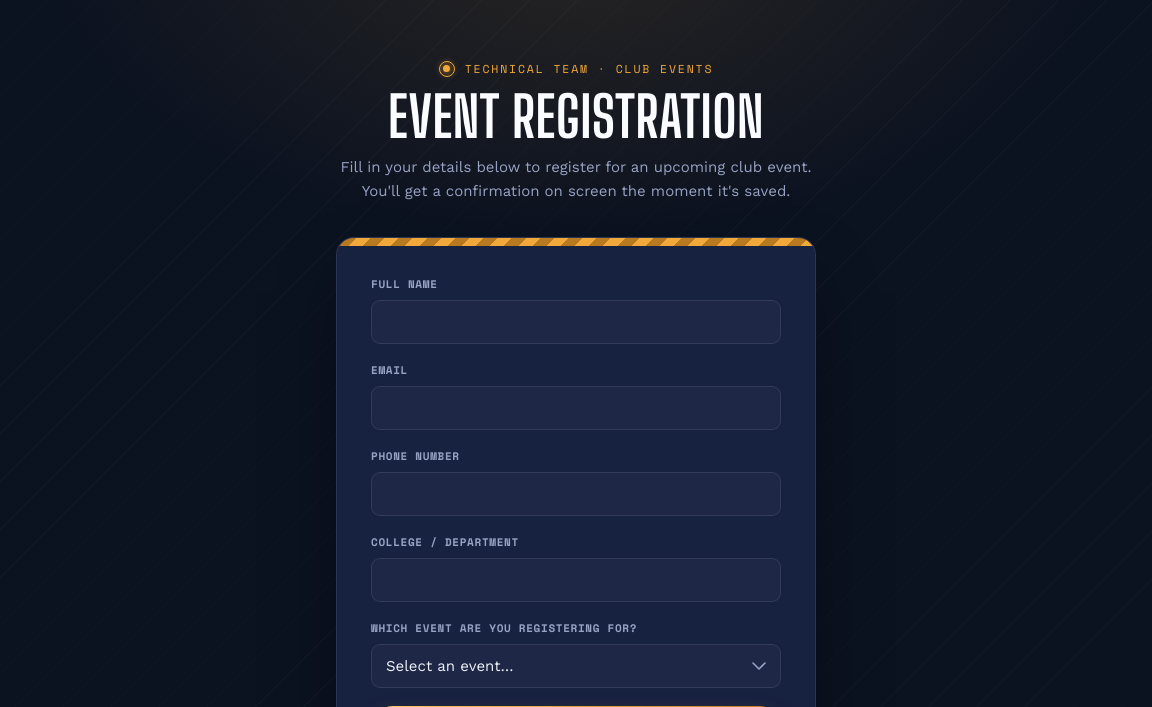
Test: RegistrationForm › rejects an invalid phone number without touching the server
Type "Ada Lovelace" into the field labelled "Full Name" at (576, 322), box [371,300,781,344]
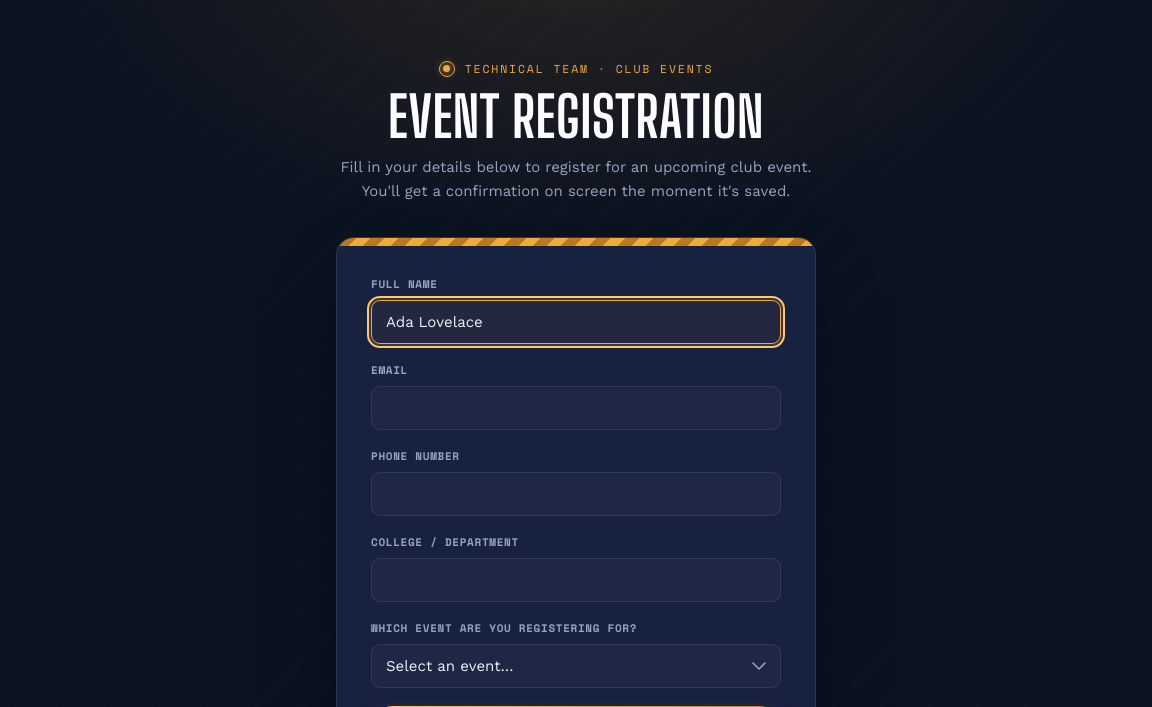
Type "ada@example.com" into the field labelled "Email" at (576, 408), box [371,386,781,430]
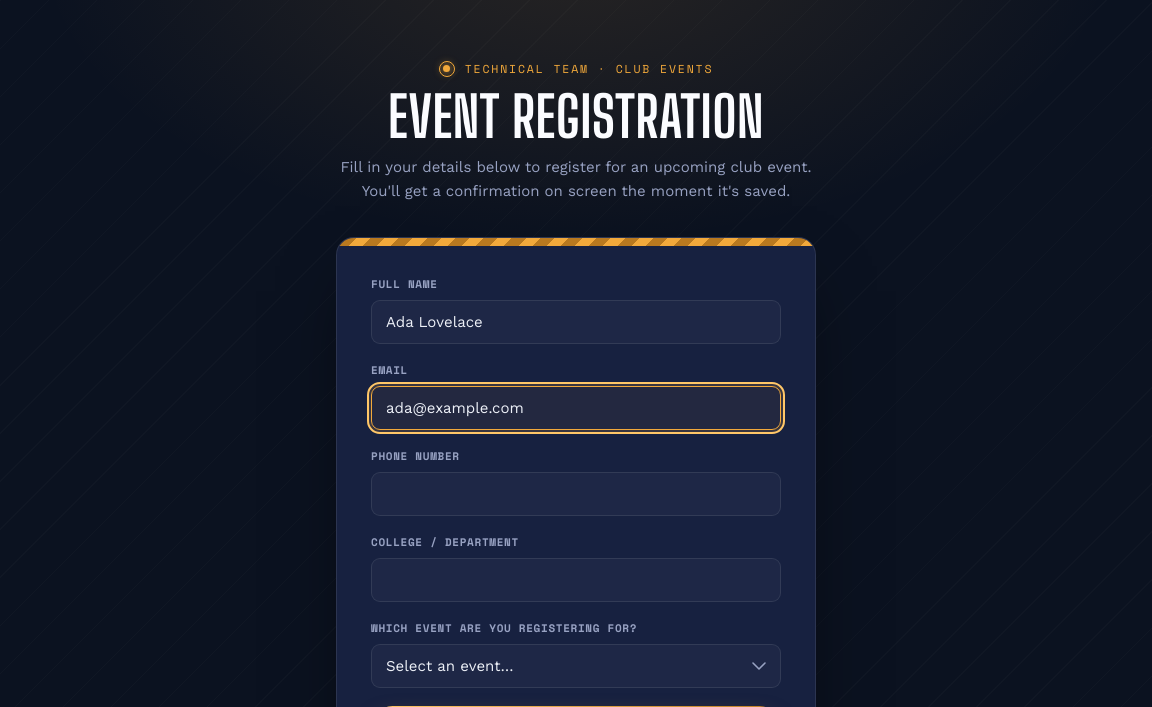
Type "call-me-maybe" into the field labelled "Phone Number" at (576, 494), box [371,472,781,516]
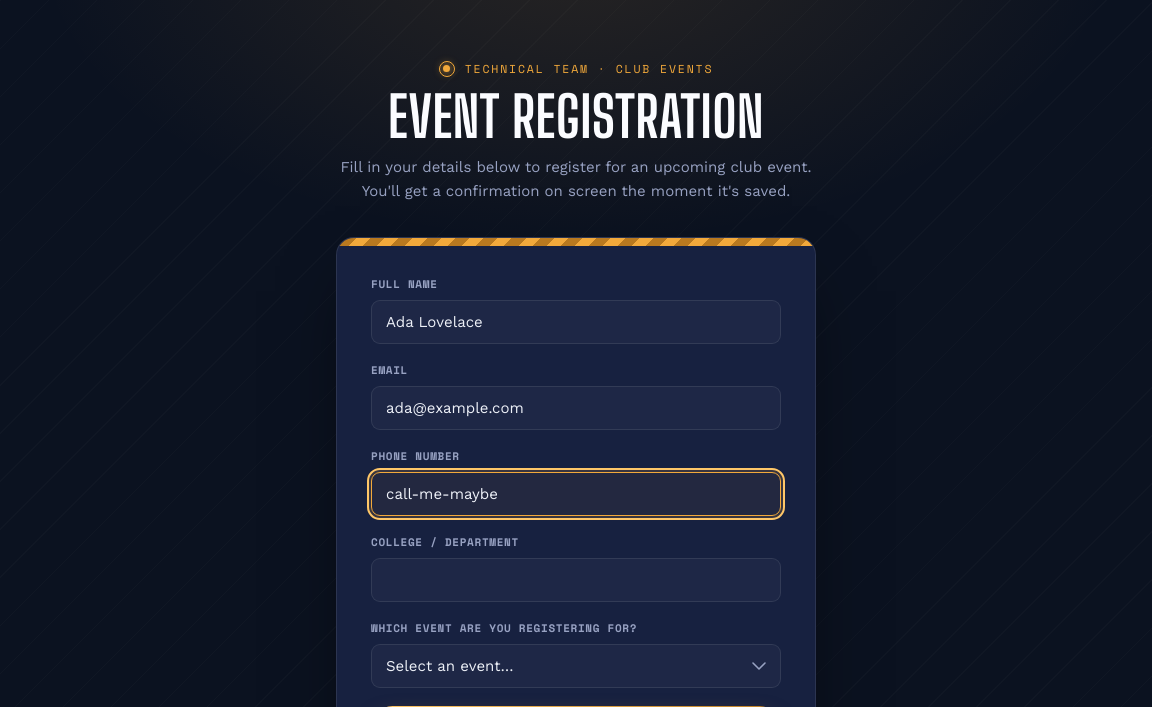
Type "Computer Science" into the field labelled "College / Department" at (576, 580), box [371,558,781,602]
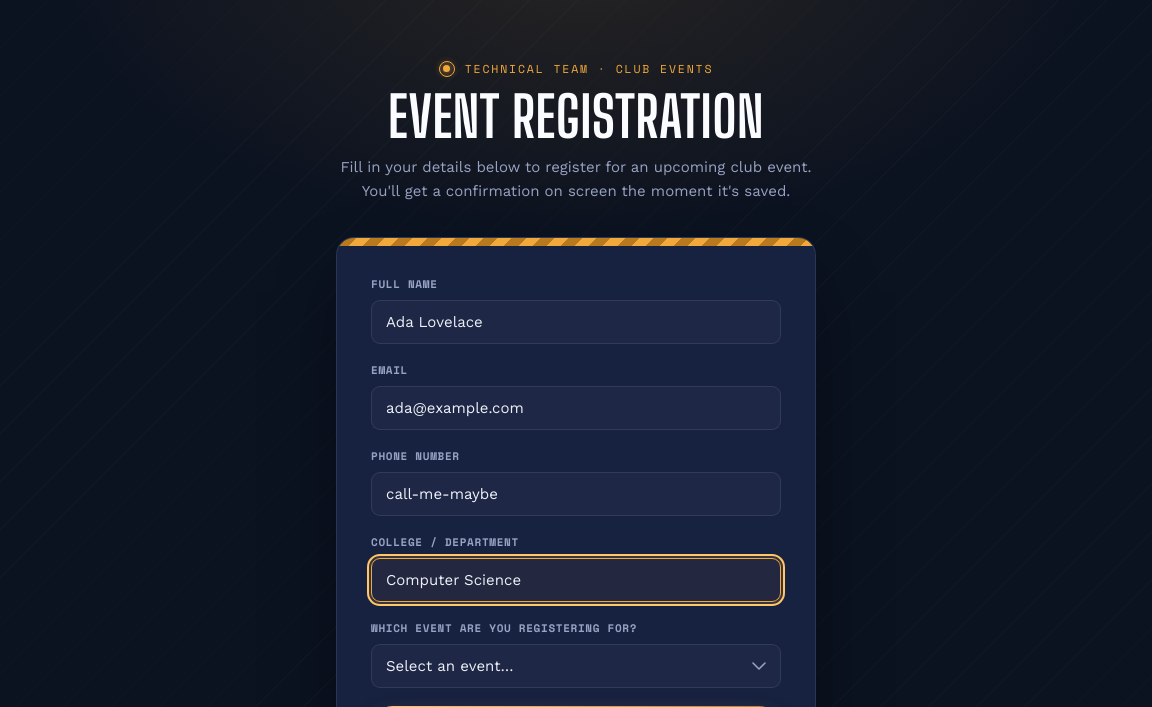
Select "Hackathon 2026" in the dropdown labelled "Which event are you registering for?" at (576, 666), box [371,644,781,688]
(page scrolled)
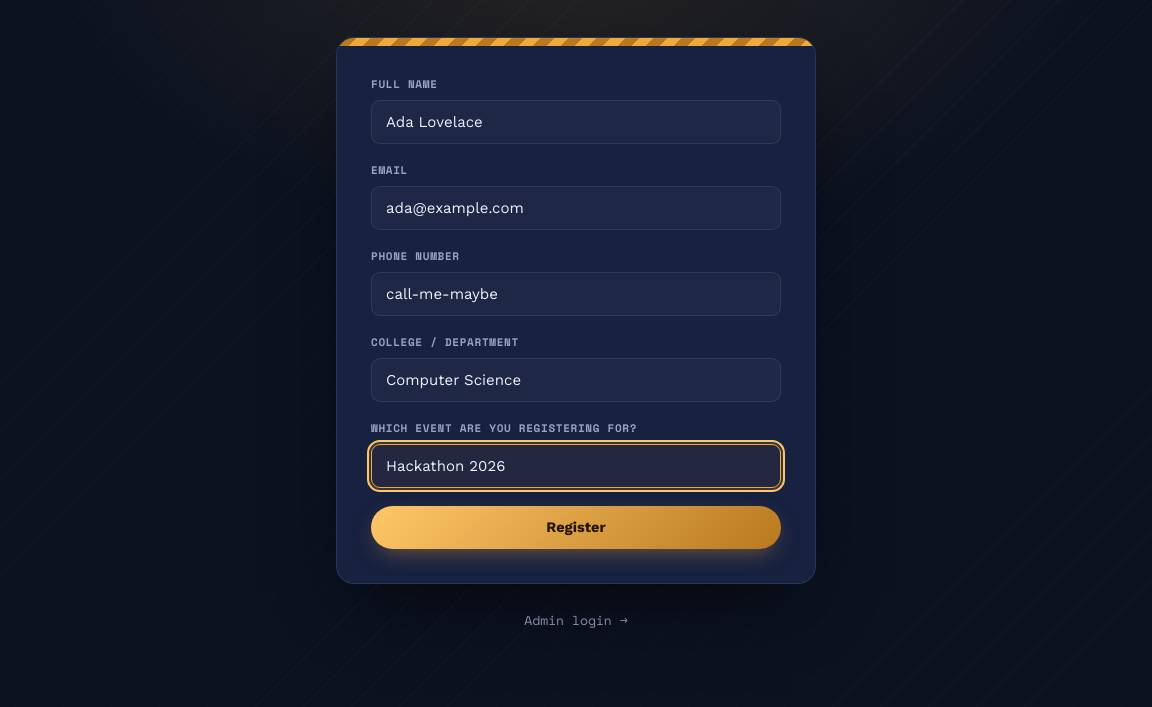
Click the button "Register" at (576, 528), box [371,506,781,549]
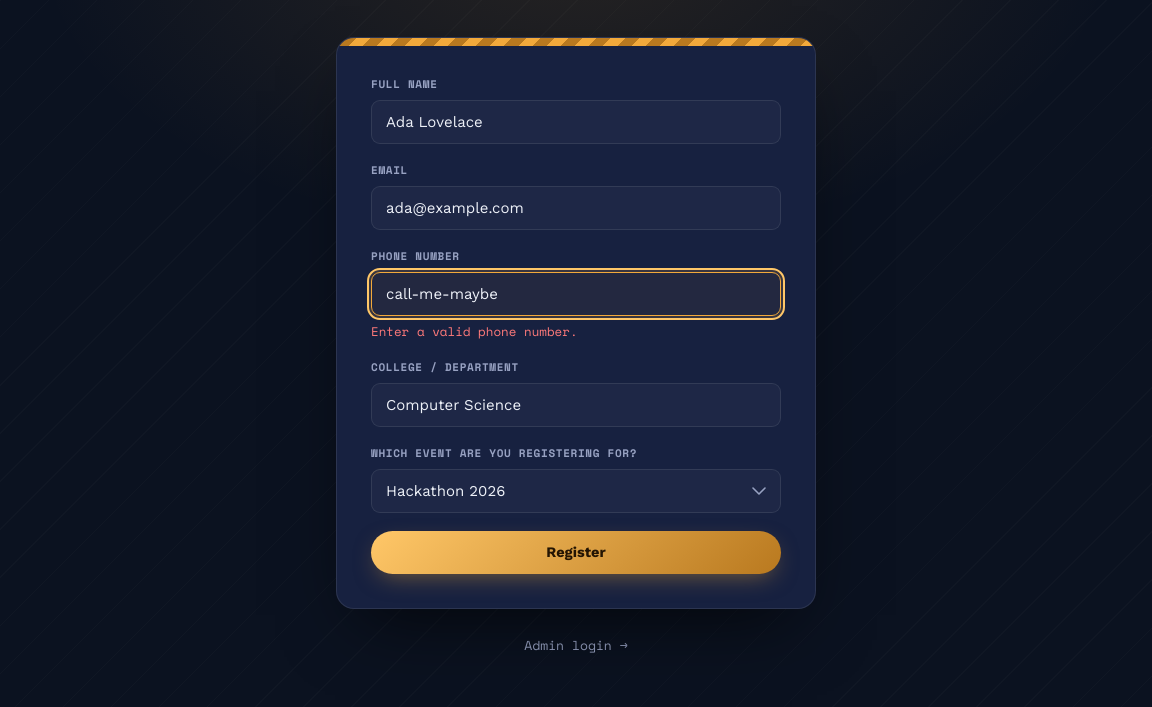
Now the text "Enter a valid phone number." is shown, box [371,322,578,341]
